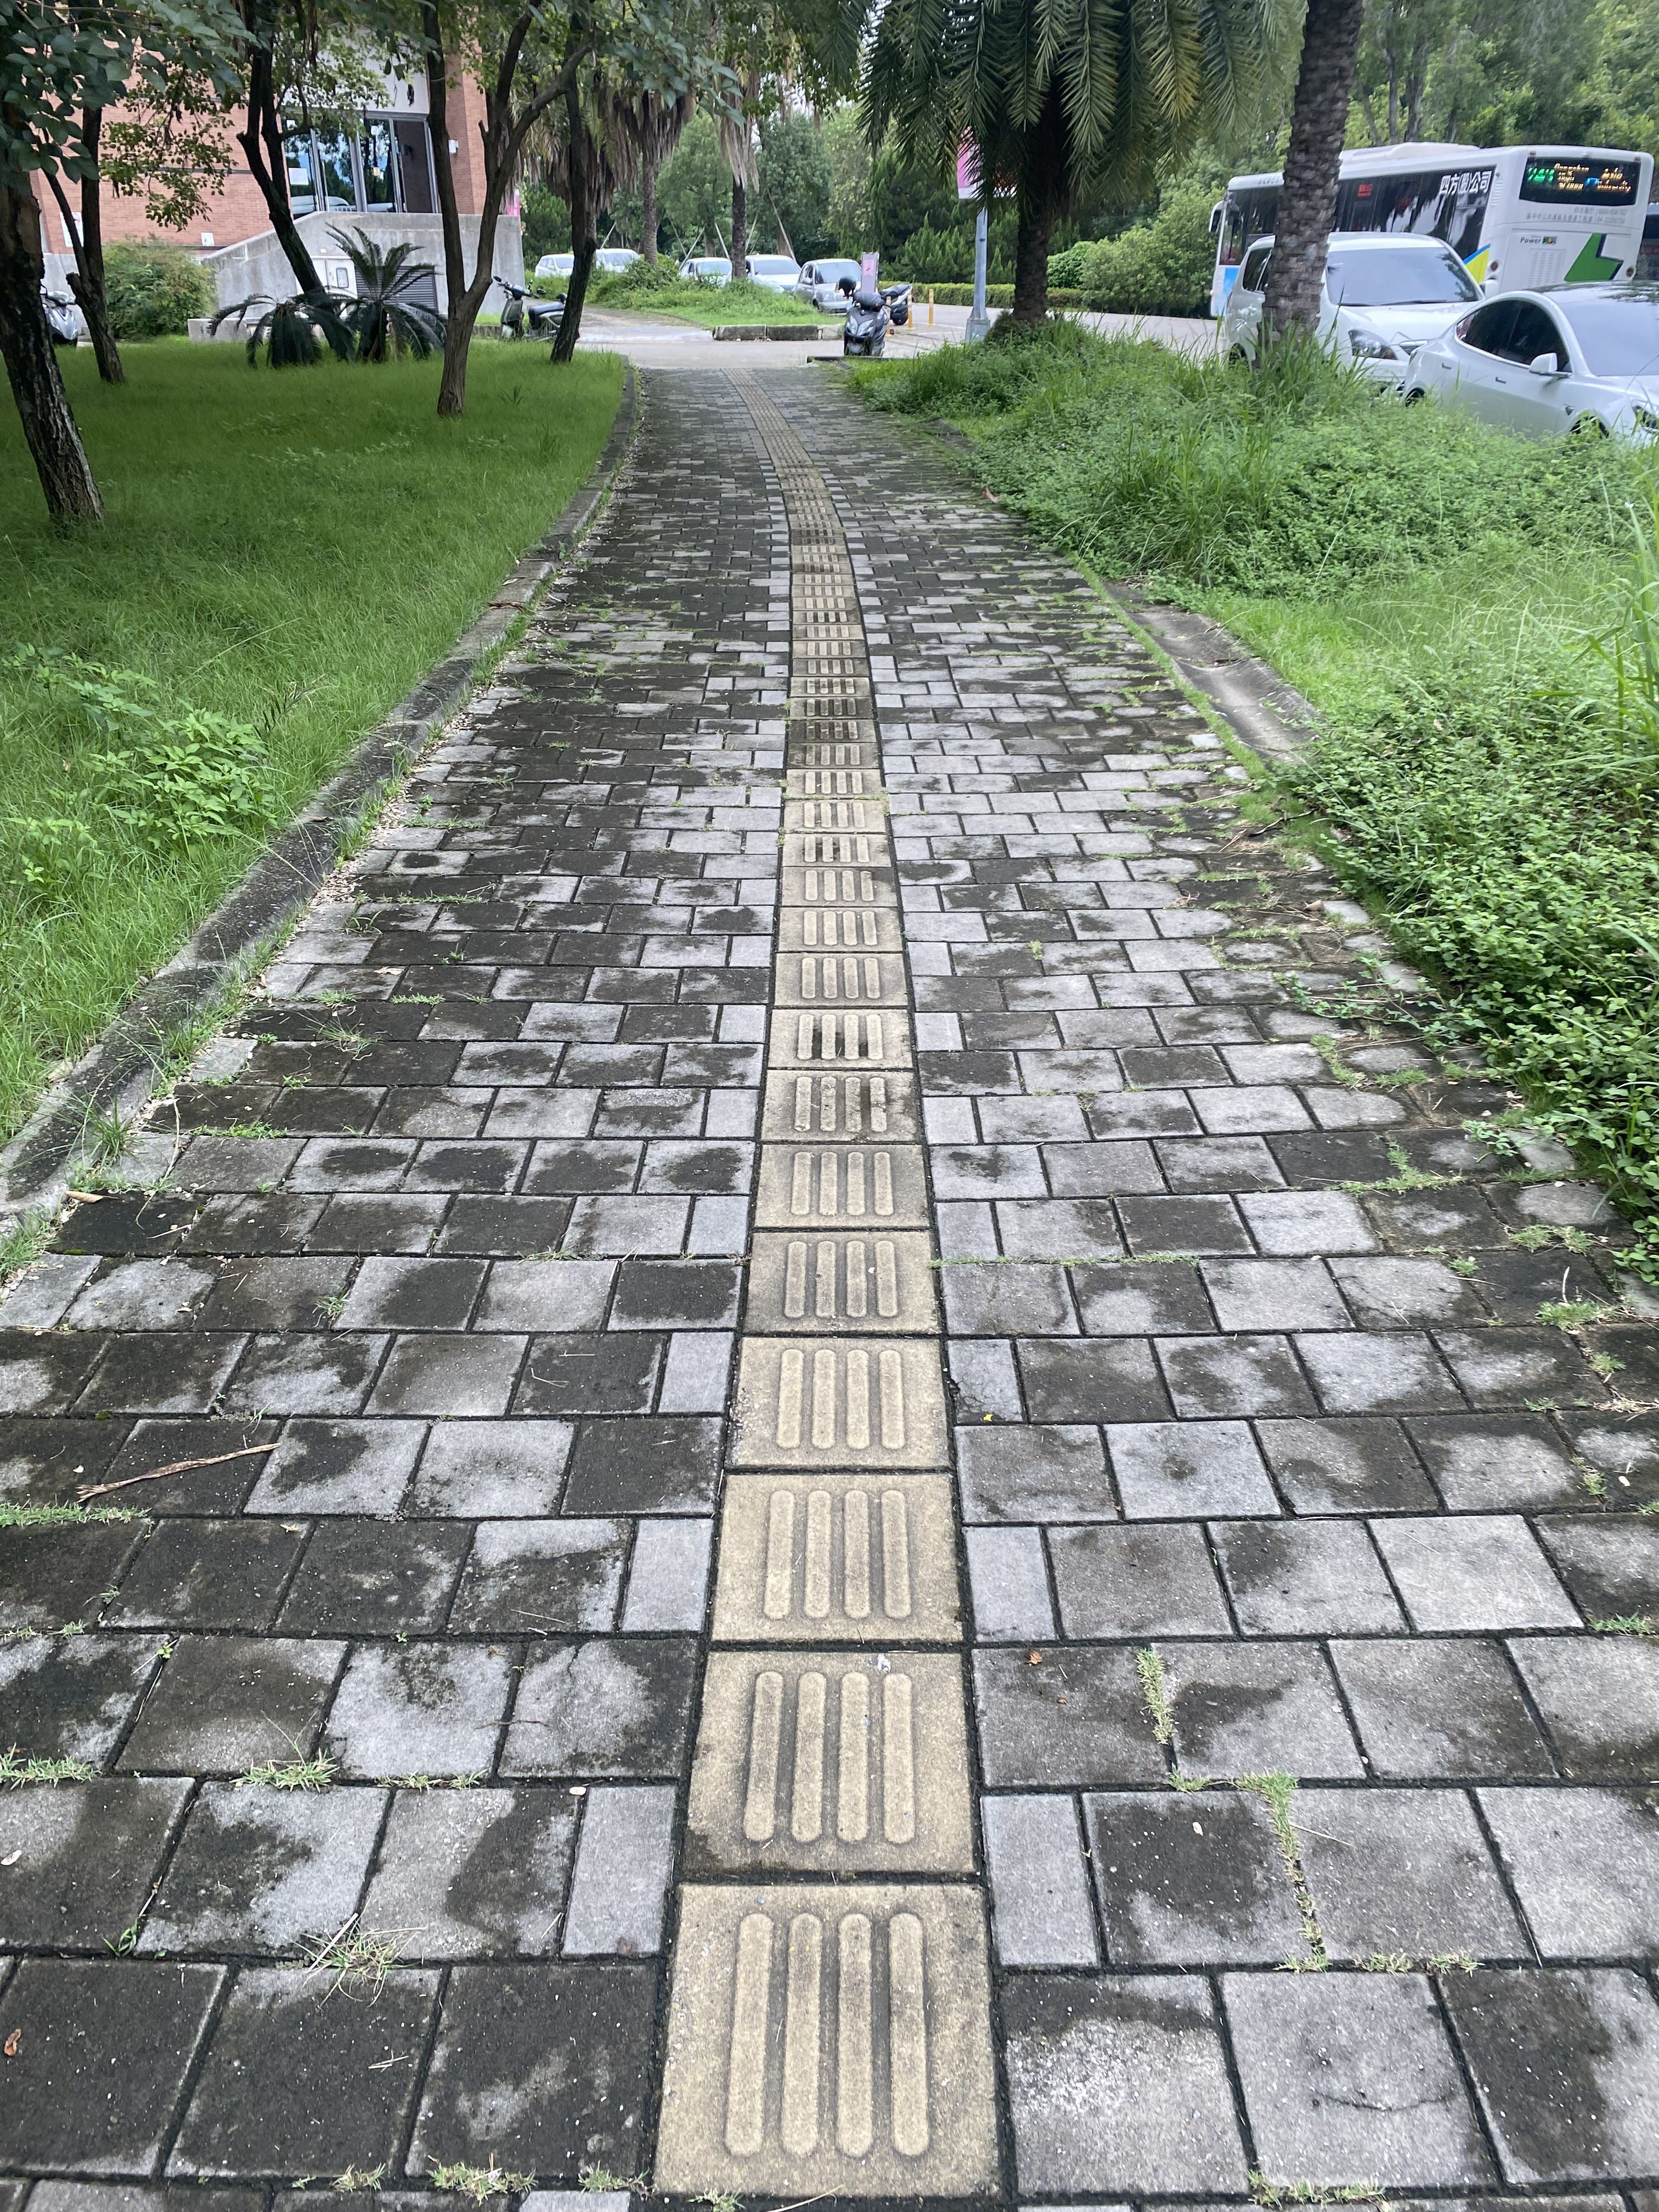sidewalk: (0, 320, 1659, 2212)
